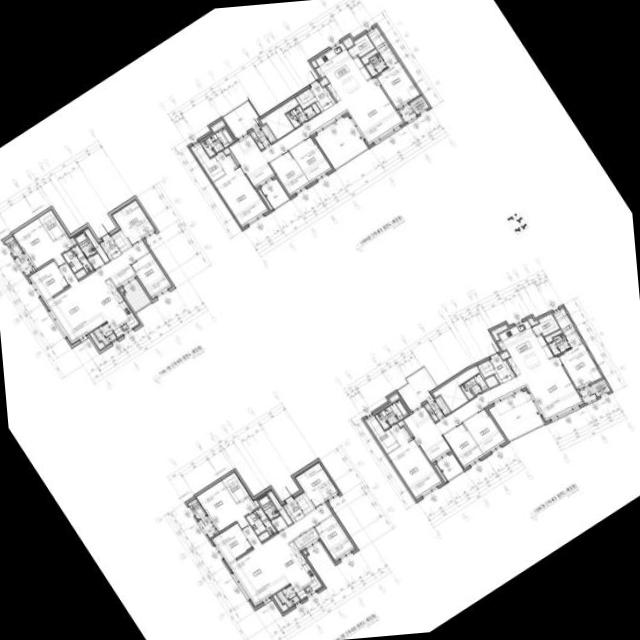background: (0, 0, 640, 640)
space_balconi: (314, 115, 367, 168), (488, 390, 544, 440), (398, 367, 436, 409), (223, 101, 259, 137), (123, 279, 150, 311), (260, 178, 288, 207), (424, 395, 450, 421), (436, 453, 462, 479), (250, 123, 276, 148), (92, 322, 116, 344), (276, 584, 299, 606), (198, 515, 216, 537), (15, 252, 33, 274), (578, 385, 596, 402), (398, 104, 416, 121)
space_bedroom: (213, 150, 267, 226), (387, 423, 441, 498), (12, 217, 73, 268), (195, 480, 256, 531), (375, 46, 419, 108), (111, 198, 155, 244), (294, 461, 338, 507), (558, 343, 601, 388), (313, 514, 355, 560), (463, 408, 505, 454), (289, 136, 331, 181), (130, 251, 171, 297), (443, 422, 483, 466), (269, 150, 309, 194), (28, 260, 68, 300), (211, 523, 251, 563)
space_dressroom: (190, 141, 224, 180), (365, 414, 398, 452), (552, 307, 582, 346), (221, 471, 248, 502), (38, 208, 65, 239), (366, 26, 388, 52)
space_front: (489, 354, 514, 382), (310, 82, 335, 110), (283, 496, 304, 521), (99, 236, 121, 259)
space_kitchen: (315, 41, 371, 100), (497, 319, 553, 374), (271, 540, 321, 598), (88, 278, 138, 336)
space_living_room: (228, 76, 403, 187), (403, 355, 582, 462), (228, 501, 332, 605), (45, 239, 149, 342)
space_other: (432, 365, 479, 410), (260, 97, 298, 138), (84, 227, 109, 262), (267, 490, 292, 524), (109, 264, 136, 287), (293, 527, 319, 550), (348, 33, 374, 56), (532, 313, 559, 335), (295, 87, 316, 108), (294, 491, 313, 513), (111, 229, 130, 251), (477, 359, 495, 377), (88, 331, 105, 349), (258, 188, 272, 209), (270, 514, 287, 531), (87, 252, 104, 269), (491, 324, 507, 340), (397, 419, 412, 436), (272, 593, 287, 610), (223, 147, 238, 164), (360, 48, 377, 63), (434, 463, 446, 481), (545, 330, 562, 342), (484, 374, 498, 387), (211, 119, 224, 131), (342, 36, 353, 47), (311, 102, 320, 113), (389, 393, 399, 402), (500, 350, 509, 359), (319, 76, 328, 85), (528, 317, 538, 325), (70, 236, 76, 244), (253, 498, 259, 506), (311, 59, 317, 67), (303, 549, 306, 553), (120, 287, 123, 291)
space_outdoor_room: (409, 95, 429, 114), (4, 235, 22, 256), (590, 378, 610, 396), (187, 498, 205, 518)
space_toilet: (245, 506, 276, 540), (62, 244, 92, 278), (374, 399, 408, 429), (200, 126, 234, 156), (460, 373, 487, 399), (286, 105, 315, 127), (73, 231, 96, 257), (257, 493, 279, 520), (365, 52, 387, 76), (548, 333, 570, 354)
